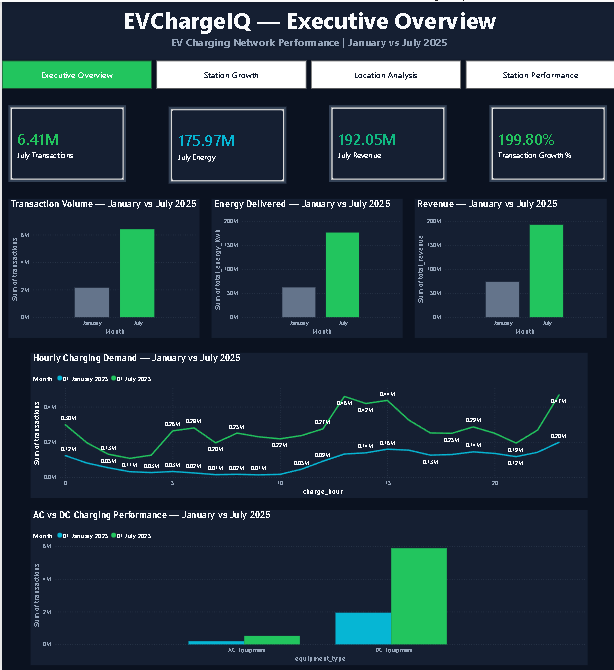

The dashboard page shown, as its layout file describes it:
{"tool":"powerbi","page":{"name":"Executive Overview","canvas":[1280,1400],"ordinal":0},"visuals":[{"type":"cardVisual","fields":{"Data":["executive_kpis.July Transactions"]},"box":[11.6,216.3,245,160],"z":0},{"type":"cardVisual","fields":{"Data":["executive_kpis.July Energy"]},"box":[346.5,218.6,245,160],"z":1000},{"type":"cardVisual","fields":{"Data":["executive_kpis.July Revenue"]},"box":[681.4,216.3,245,160],"z":2000},{"type":"cardVisual","fields":{"Data":["executive_kpis.Transaction Growth %"]},"box":[1014,216.3,245,160],"z":3000},{"type":"clusteredColumnChart","title":"Transaction Volume — January vs July 2025","fields":{"Category":["executive_kpis.month.Variation.Date Hierarchy.Month"],"Y":["Sum(executive_kpis.transactions)"]},"box":[12.4,410.5,397.9,290],"z":4000},{"type":"clusteredColumnChart","title":"Energy Delivered — January vs July 2025","fields":{"Category":["executive_kpis.month.Variation.Date Hierarchy.Month"],"Y":["Sum(executive_kpis.total_energy_kwh)"]},"box":[437,410.5,397.9,290],"z":5000},{"type":"clusteredColumnChart","title":"Revenue — January vs July 2025","fields":{"Category":["executive_kpis.month.Variation.Date Hierarchy.Month"],"Y":["Sum(executive_kpis.total_revenue)"]},"box":[859.1,410.5,400.3,290],"z":6000},{"type":"lineChart","title":"Hourly Charging Demand — January vs July 2025","fields":{"Category":["hourly_demand.charge_hour"],"Y":["Sum(hourly_demand.transactions)"],"Series":["hourly_demand.month"]},"box":[60.5,730.2,1160.5,302.3],"z":7000},{"type":"clusteredColumnChart","title":"AC vs DC Charging Performance — January vs July 2025","fields":{"Category":["equipment_performance.equipment_type"],"Y":["Sum(equipment_performance.transactions)"],"Series":["equipment_performance.month"]},"box":[60.5,1058.1,1160.5,323.3],"z":8000},{"type":"textbox","box":[0,0,1281,120],"z":9000},{"type":"pageNavigator","box":[0,122.2,1280.6,58.3],"z":10000}]}

Visuals, with their boxes in screenshot pixels (x1, y1, x2, y2), scaled from the page's 1280x1400 canvas onto the 614x670 screenshot:
cardVisual - executive_kpis.July Transactions: locate(6, 104, 123, 180)
cardVisual - executive_kpis.July Energy: locate(166, 105, 284, 181)
cardVisual - executive_kpis.July Revenue: locate(327, 104, 444, 180)
cardVisual - executive_kpis.Transaction Growth %: locate(486, 104, 604, 180)
"Transaction Volume — January vs July 2025" clusteredColumnChart: locate(6, 196, 197, 335)
"Energy Delivered — January vs July 2025" clusteredColumnChart: locate(210, 196, 400, 335)
"Revenue — January vs July 2025" clusteredColumnChart: locate(412, 196, 604, 335)
"Hourly Charging Demand — January vs July 2025" lineChart: locate(29, 349, 586, 494)
"AC vs DC Charging Performance — January vs July 2025" clusteredColumnChart: locate(29, 506, 586, 661)
textbox: locate(0, 0, 613, 57)
pageNavigator: locate(0, 58, 613, 86)
